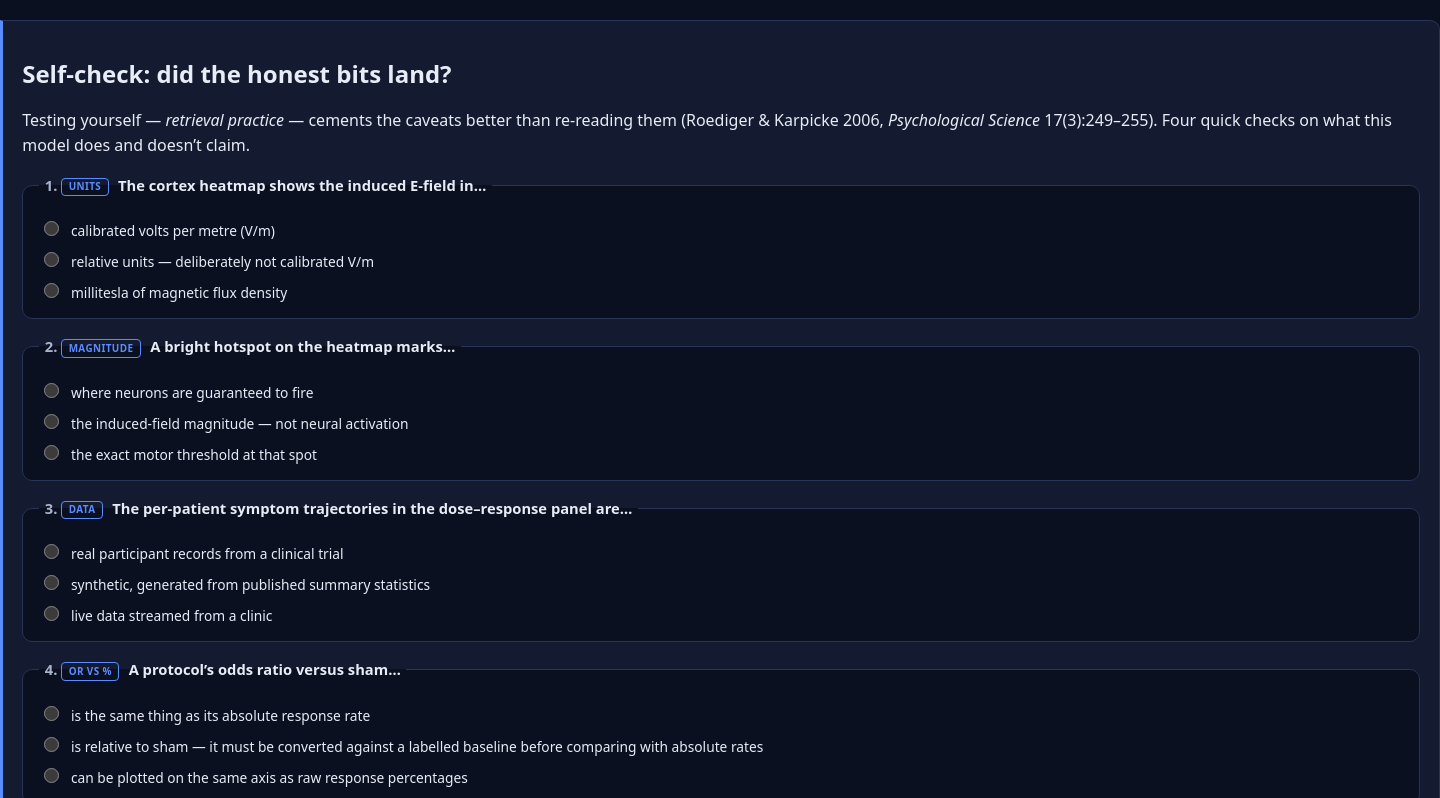
Test: SelfCheckQuiz (#21 — retrieval practice on the honesty gates) › grades all-correct as 4 of 4 and reports it in the live region
Step 1. Click the radio button labelled "relative units — deliberately not calibrated V/m" → (52, 260), box 44,252 -> 59,267
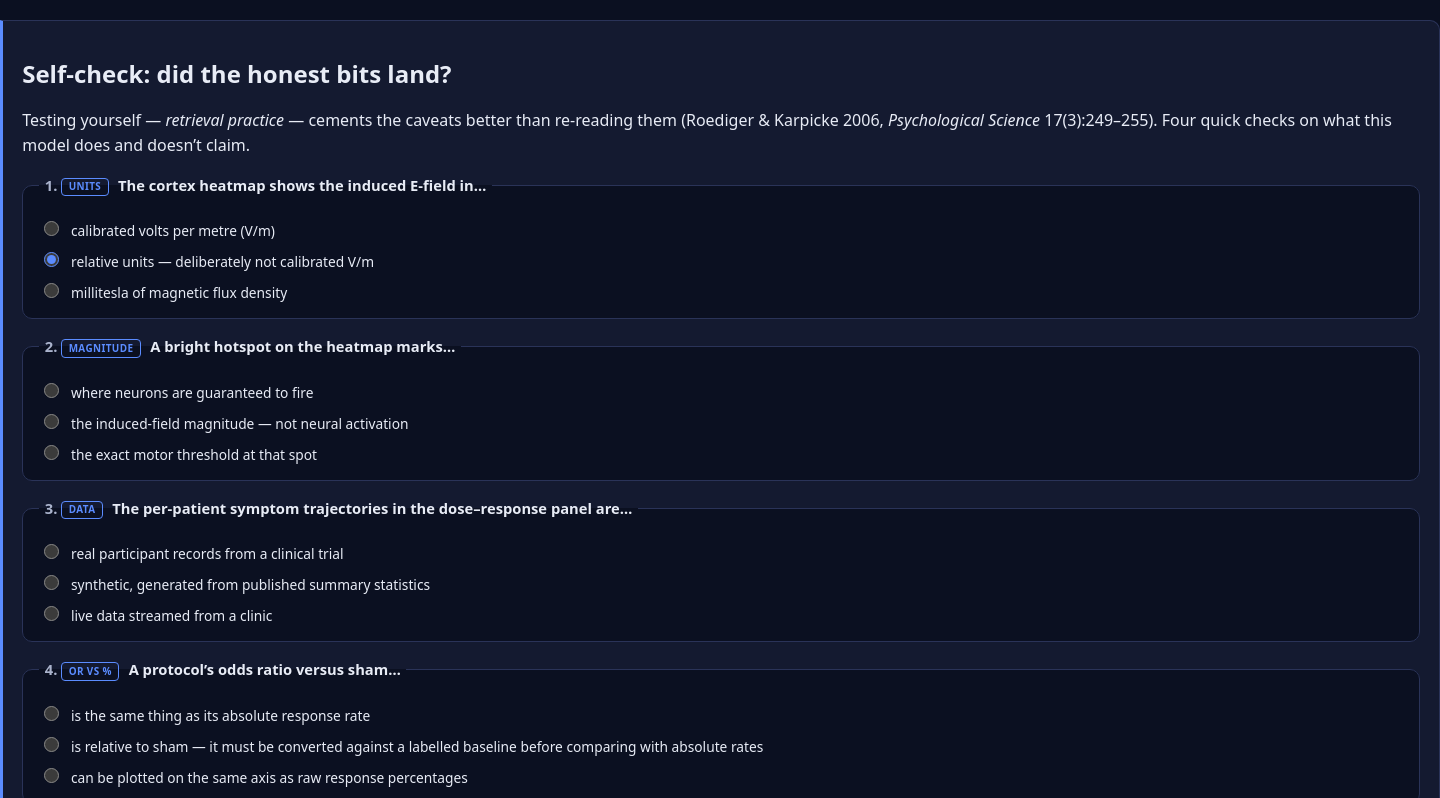
Step 2. Click the radio button labelled "the induced-field magnitude — not neural activation" → (52, 421), box 44,414 -> 59,429
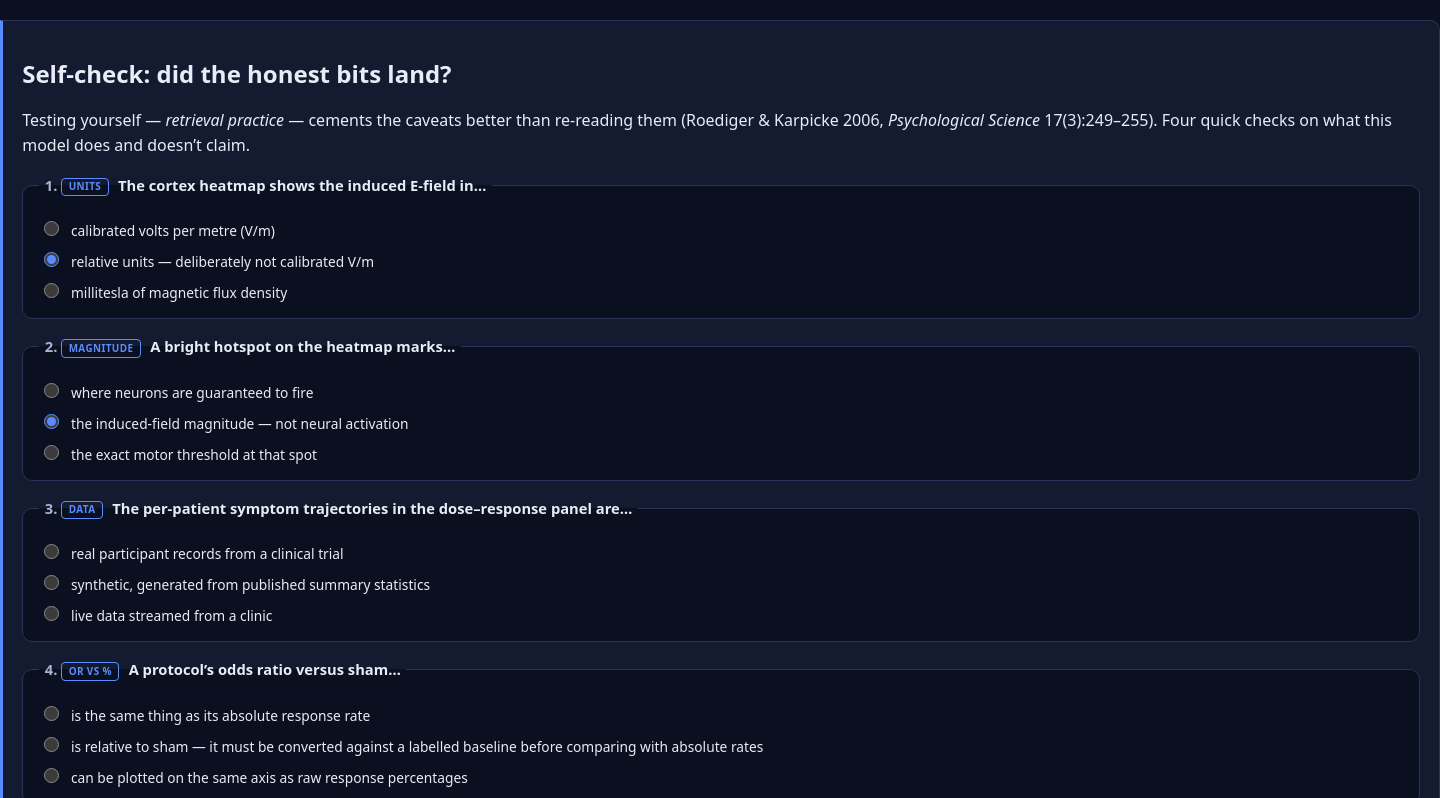
Step 3. Click the radio button labelled "synthetic, generated from published summary statistics" → (52, 583), box 44,575 -> 59,590
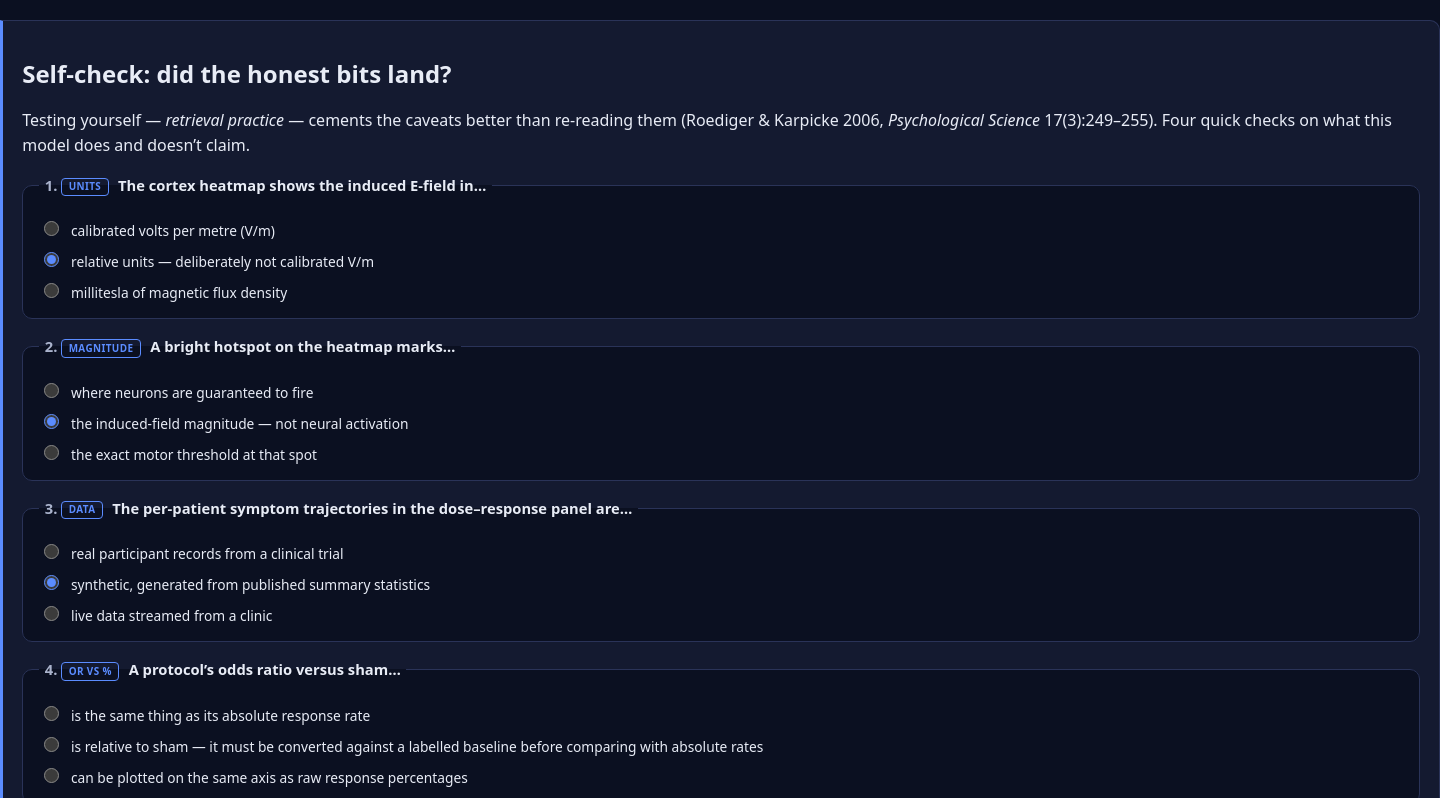
Step 4. Click the radio button labelled "relative to sham" → (52, 744), box 44,737 -> 59,752
(page scrolled)
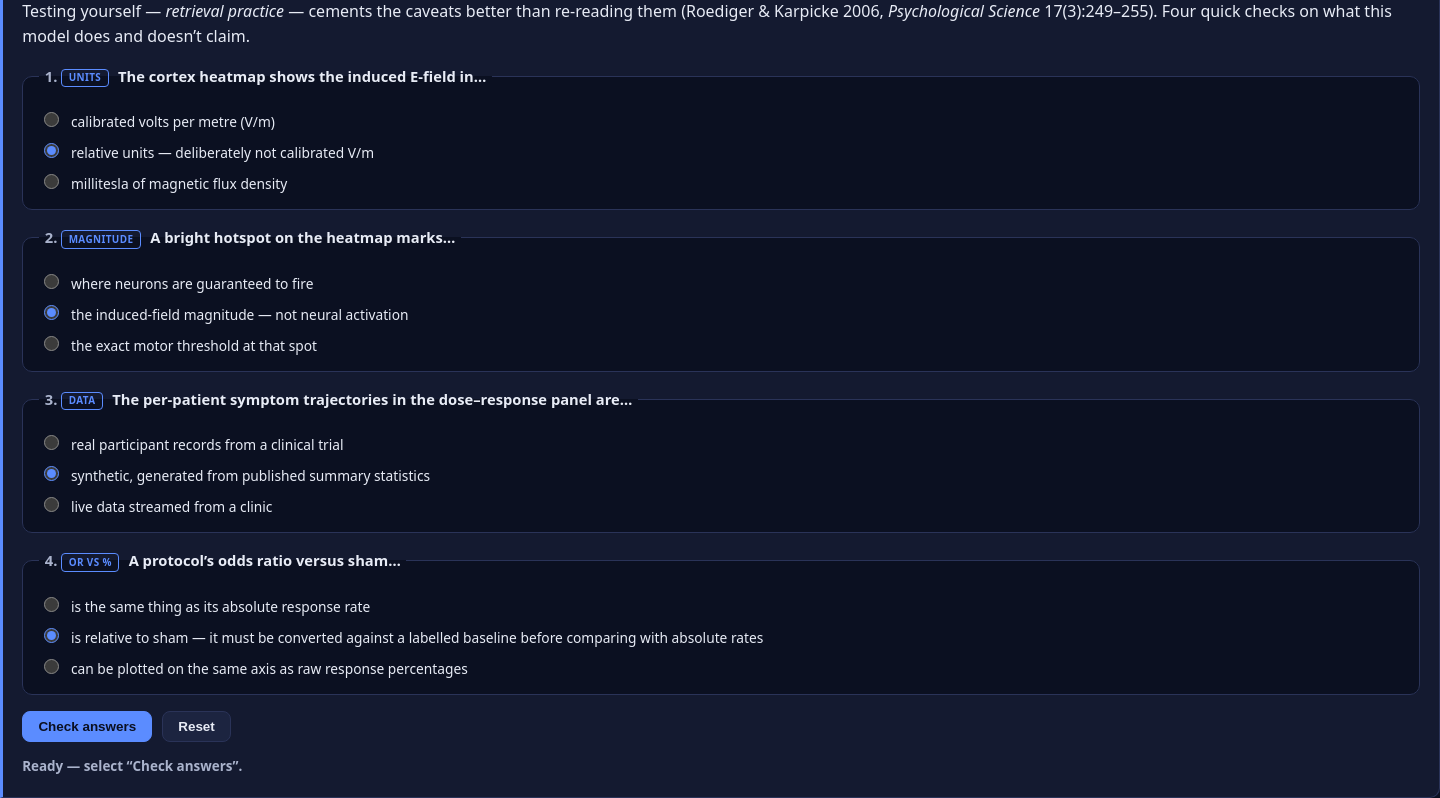
Step 5. Click the button "Check answers" → (87, 726), box 22,711 -> 152,742
(page scrolled)
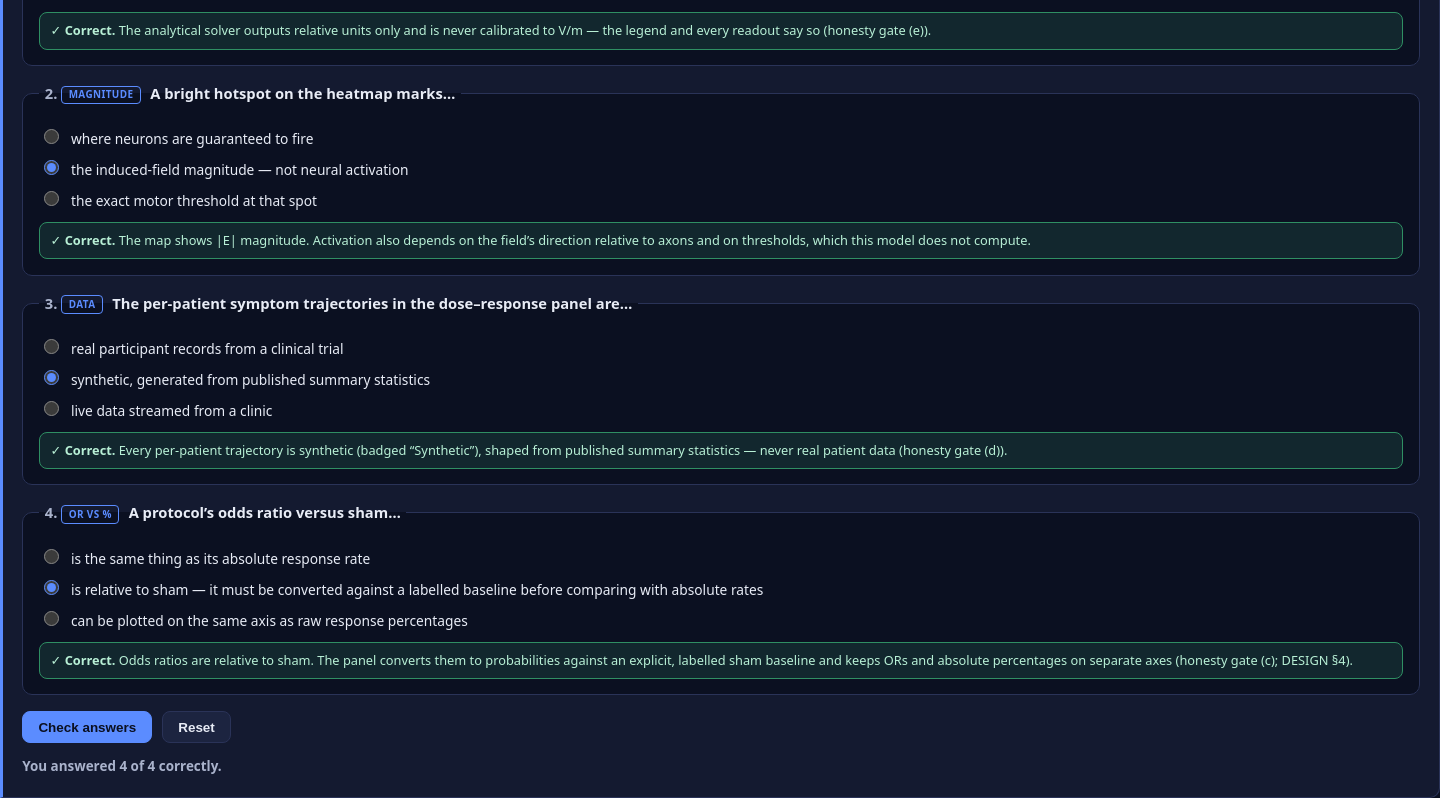
Expected: the message shows "4 of 4 correctly", 22,757 -> 222,775
Expected: the text "✓ Correct." is shown 4 times, 51,22 -> 115,40; 51,231 -> 115,249; 51,441 -> 115,459; 51,651 -> 115,669
